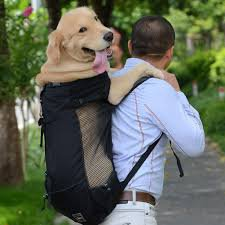dog: (41, 2, 138, 147)
